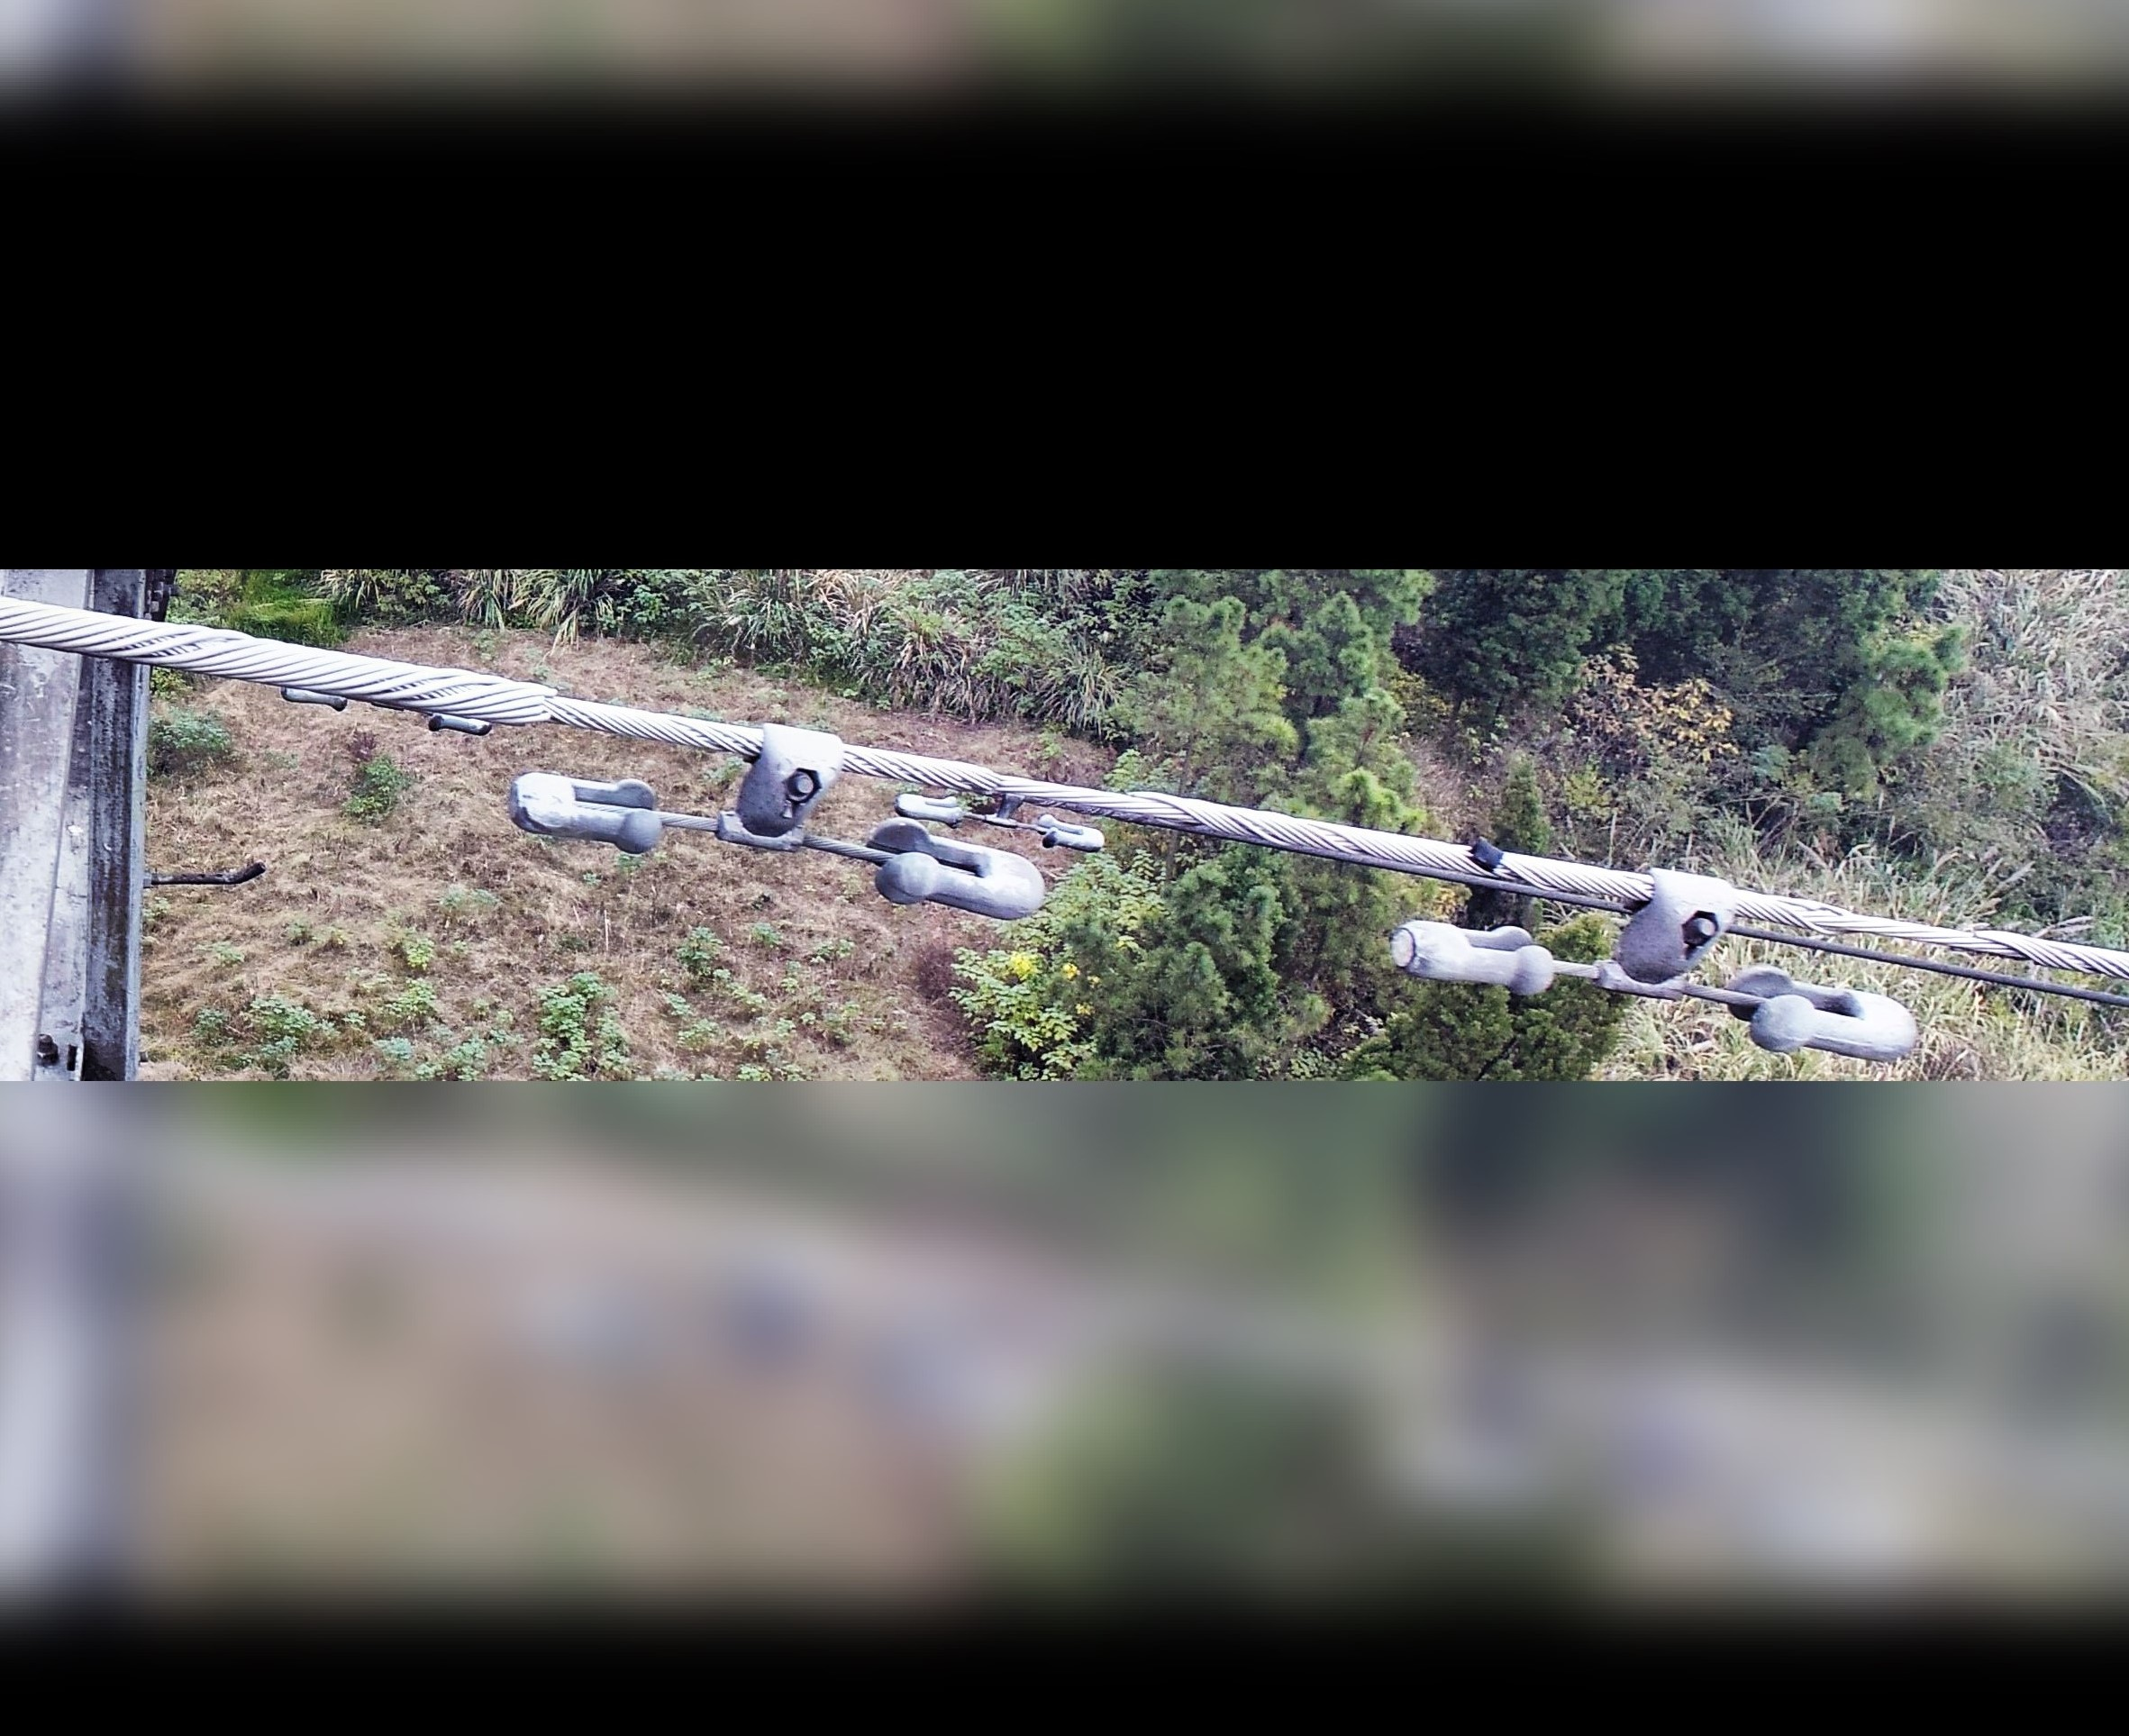Shockproof hammer: (492, 711, 1059, 935), (1390, 850, 1929, 1075)
